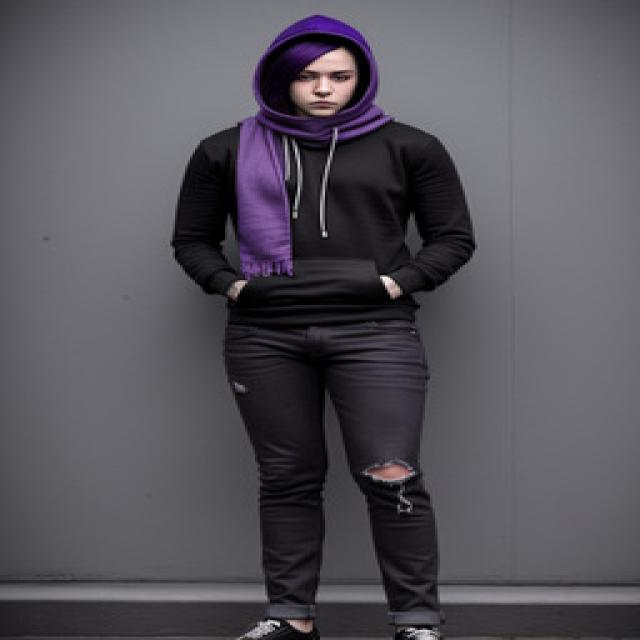Ai human 2: (162, 8, 492, 640)
